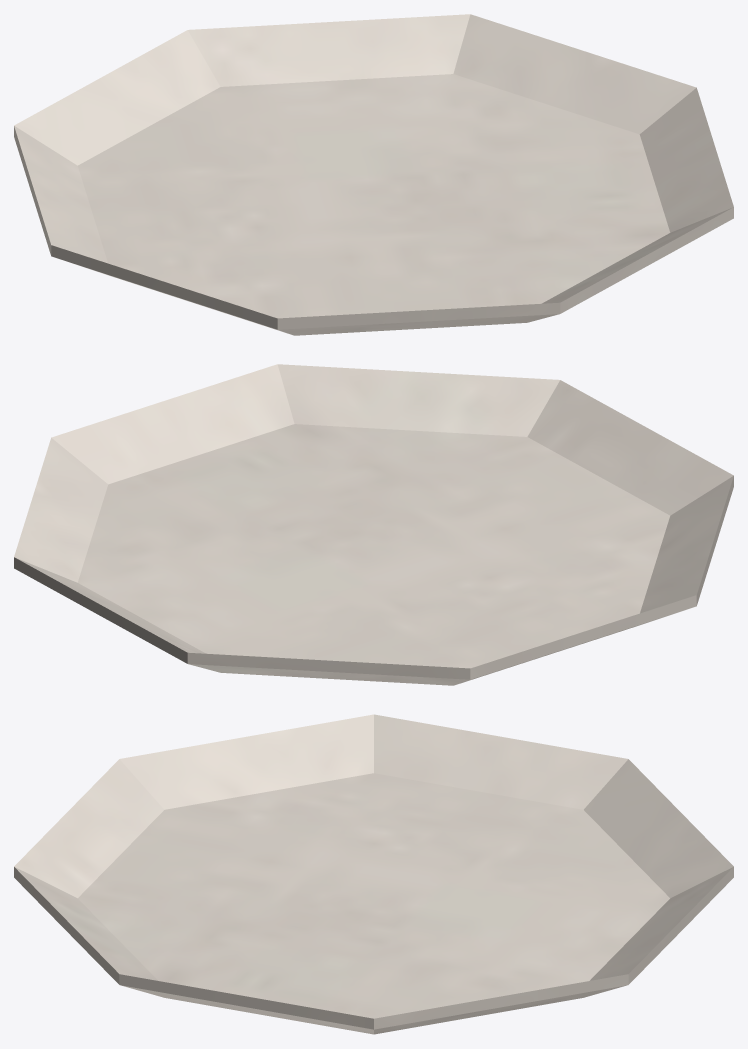
The model's file is plate.gltf.
3 views of the same model, one above another, from view 1: azimuth 30°, elevation 25°; view 2: azimuth 150°, elevation 25°; view 3: azimuth 270°, elevation 25° (orthographic). The views are drawn at different scales.
Visible parts, largest first — view 1: plate; view 2: plate; view 3: plate.
Boxes of the visible parts, x1=… form: plate: x1=14, y1=14, x2=733, y2=335; plate: x1=14, y1=364, x2=733, y2=685; plate: x1=14, y1=714, x2=733, y2=1034.
Size of the model in its own units: 0.5 by 0.0327 by 0.5.
1 material, 1 textured.
